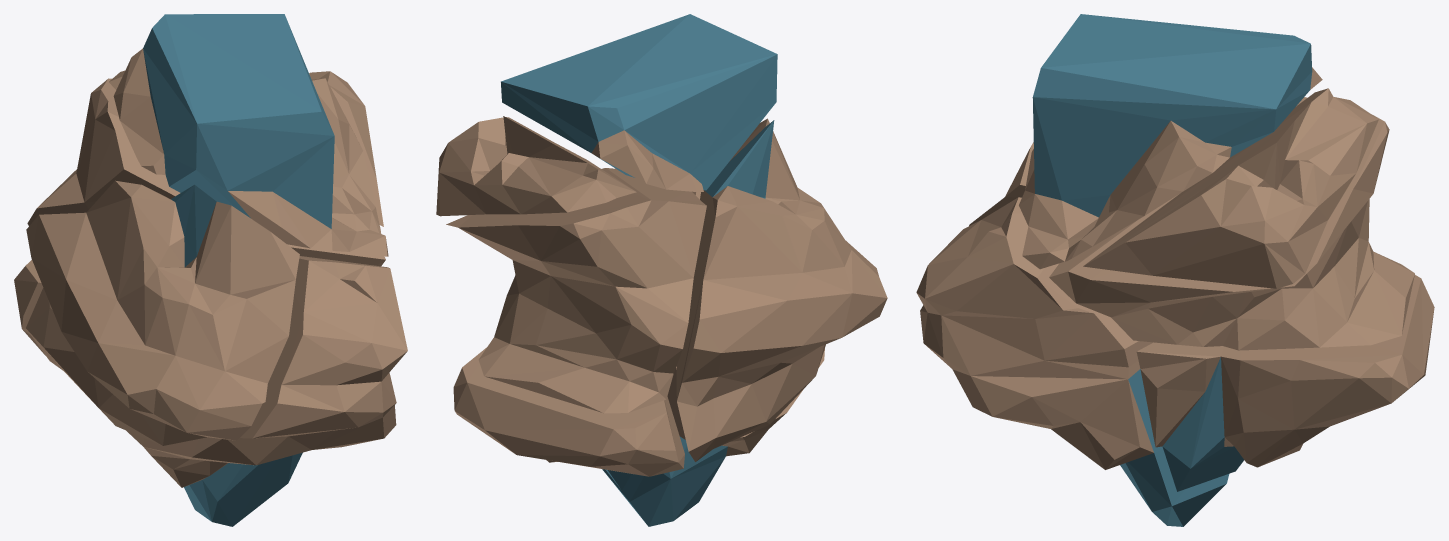
The model's file is SM_LP_Mineral_5_Pieces.fbx.
3 views of the same model, side by side, from view 1: azimuth 30°, elevation 25°; view 2: azimuth 150°, elevation 25°; view 3: azimuth 270°, elevation 25° (orthographic). The views are drawn at different scales.
Parts seen in each view (by area): view 1: SM_LP_Mineral_5_Piece_6, SM_LP_Mineral_5_Piece_3, SM_LP_Mineral_5_Piece_1, SM_LP_Mineral_5_Piece_5, SM_LP_Mineral_5_Piece_2, SM_LP_Mineral_5_Piece_4; view 2: SM_LP_Mineral_5_Piece_6, SM_LP_Mineral_5_Piece_5, SM_LP_Mineral_5_Piece_3, SM_LP_Mineral_5_Piece_4, SM_LP_Mineral_5_Piece_2, SM_LP_Mineral_5_Piece_1; view 3: SM_LP_Mineral_5_Piece_3, SM_LP_Mineral_5_Piece_1, SM_LP_Mineral_5_Piece_4, SM_LP_Mineral_5_Piece_5, SM_LP_Mineral_5_Piece_2, SM_LP_Mineral_5_Piece_6.
Boxes of the visible parts, <box> form: SM_LP_Mineral_5_Piece_6: <box>26,180,299,445</box>; SM_LP_Mineral_5_Piece_3: <box>113,14,388,256</box>; SM_LP_Mineral_5_Piece_1: <box>126,256,407,526</box>; SM_LP_Mineral_5_Piece_5: <box>27,78,385,266</box>; SM_LP_Mineral_5_Piece_2: <box>109,70,383,226</box>; SM_LP_Mineral_5_Piece_4: <box>14,260,45,355</box>; SM_LP_Mineral_5_Piece_6: <box>676,118,887,461</box>; SM_LP_Mineral_5_Piece_5: <box>446,168,706,413</box>; SM_LP_Mineral_5_Piece_3: <box>501,14,777,191</box>; SM_LP_Mineral_5_Piece_4: <box>453,347,684,490</box>; SM_LP_Mineral_5_Piece_2: <box>436,116,636,216</box>; SM_LP_Mineral_5_Piece_1: <box>602,191,824,526</box>; SM_LP_Mineral_5_Piece_3: <box>1019,14,1322,269</box>; SM_LP_Mineral_5_Piece_1: <box>916,197,1229,526</box>; SM_LP_Mineral_5_Piece_4: <box>1136,275,1434,491</box>; SM_LP_Mineral_5_Piece_5: <box>1049,97,1414,350</box>; SM_LP_Mineral_5_Piece_2: <box>1083,88,1378,288</box>; SM_LP_Mineral_5_Piece_6: <box>969,142,1033,225</box>.
Size of the model in its own units: 0.7274 by 0.9532 by 0.9267.
